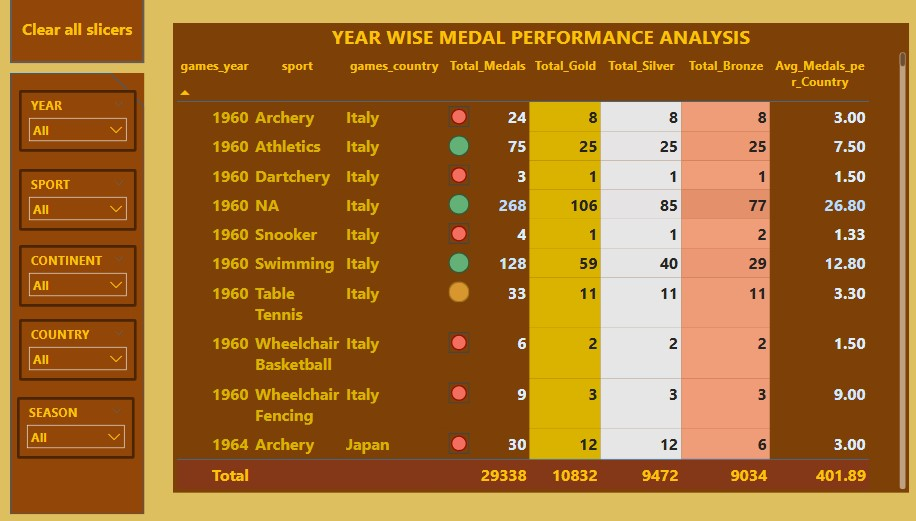

What the dashboard file says about the page in this screenshot:
{"tool":"powerbi","page":{"name":"MATRIX","canvas":[1400,800],"ordinal":2},"visuals":[{"type":"shape","box":[25,119.4,202.2,664.4],"z":0},{"type":"slicer","fields":{"Values":["Paralympics.games_country"]},"box":[38.6,489,176.5,93.3],"z":2000},{"type":"slicer","fields":{"Values":["Paralympics.sport"]},"box":[38.6,263.8,176.5,93.3],"z":3000},{"type":"slicer","fields":{"Values":["Games_Year_Table.games_year"]},"box":[38.6,144.1,176.5,93.3],"z":4000},{"type":"slicer","fields":{"Values":["Paralympics.games_continent"]},"box":[38.6,377.4,176.5,93.3],"z":5000},{"type":"slicer","fields":{"Values":["Paralympics.games_season"]},"box":[36.5,606.7,176.5,93.3],"z":6000},{"type":"actionButton","box":[25,0,202.2,104],"z":7000},{"type":"tableEx","title":"YEAR WISE MEDAL PERFORMANCE ANALYSIS","fields":{"Values":["Games_Year_Table.games_year","Paralympics.sport","Paralympics.games_country","My_DAX.Total_Medals","My_DAX.Total_Gold","My_DAX.Total_Silver","My_DAX.Total_Bronze","My_DAX.Avg_Medals_per_Country"]},"box":[271,43,1108.4,706.5],"z":8000}]}

Visuals, with their boxes in screenshot pixels (x1, y1, x2, y2), scaled from the page's 1400x800 canvas onto the 916x521 screenshot:
shape: <bbox>16, 78, 149, 510</bbox>
slicer - Paralympics.games_country: <bbox>25, 318, 141, 379</bbox>
slicer - Paralympics.sport: <bbox>25, 172, 141, 233</bbox>
slicer - Games_Year_Table.games_year: <bbox>25, 94, 141, 155</bbox>
slicer - Paralympics.games_continent: <bbox>25, 246, 141, 307</bbox>
slicer - Paralympics.games_season: <bbox>24, 395, 139, 456</bbox>
actionButton: <bbox>16, 0, 149, 68</bbox>
"YEAR WISE MEDAL PERFORMANCE ANALYSIS" tableEx: <bbox>177, 28, 903, 488</bbox>
